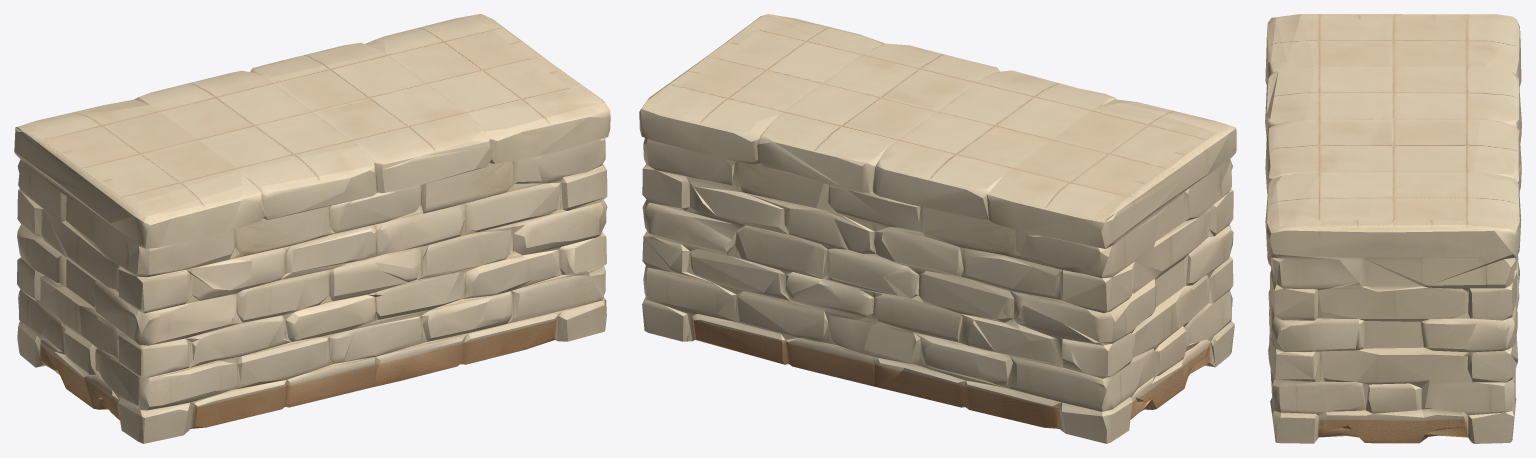
3 renders of one model, left to right at view 1: azimuth 30°, elevation 25°; view 2: azimuth 150°, elevation 25°; view 3: azimuth 270°, elevation 25°, orthographic. The views are drawn at different scales.
Visible parts, largest first — view 1: output_unwrapped; view 2: output_unwrapped; view 3: output_unwrapped.
Boxes of the visible parts, x1,y1,x2,y2 form: output_unwrapped: (14, 14, 610, 443); output_unwrapped: (639, 14, 1236, 443); output_unwrapped: (1265, 14, 1521, 443).
Size of the model in its own units: 1.9 by 0.8846 by 0.9467.
Materials: 1 (1 with a texture image).
